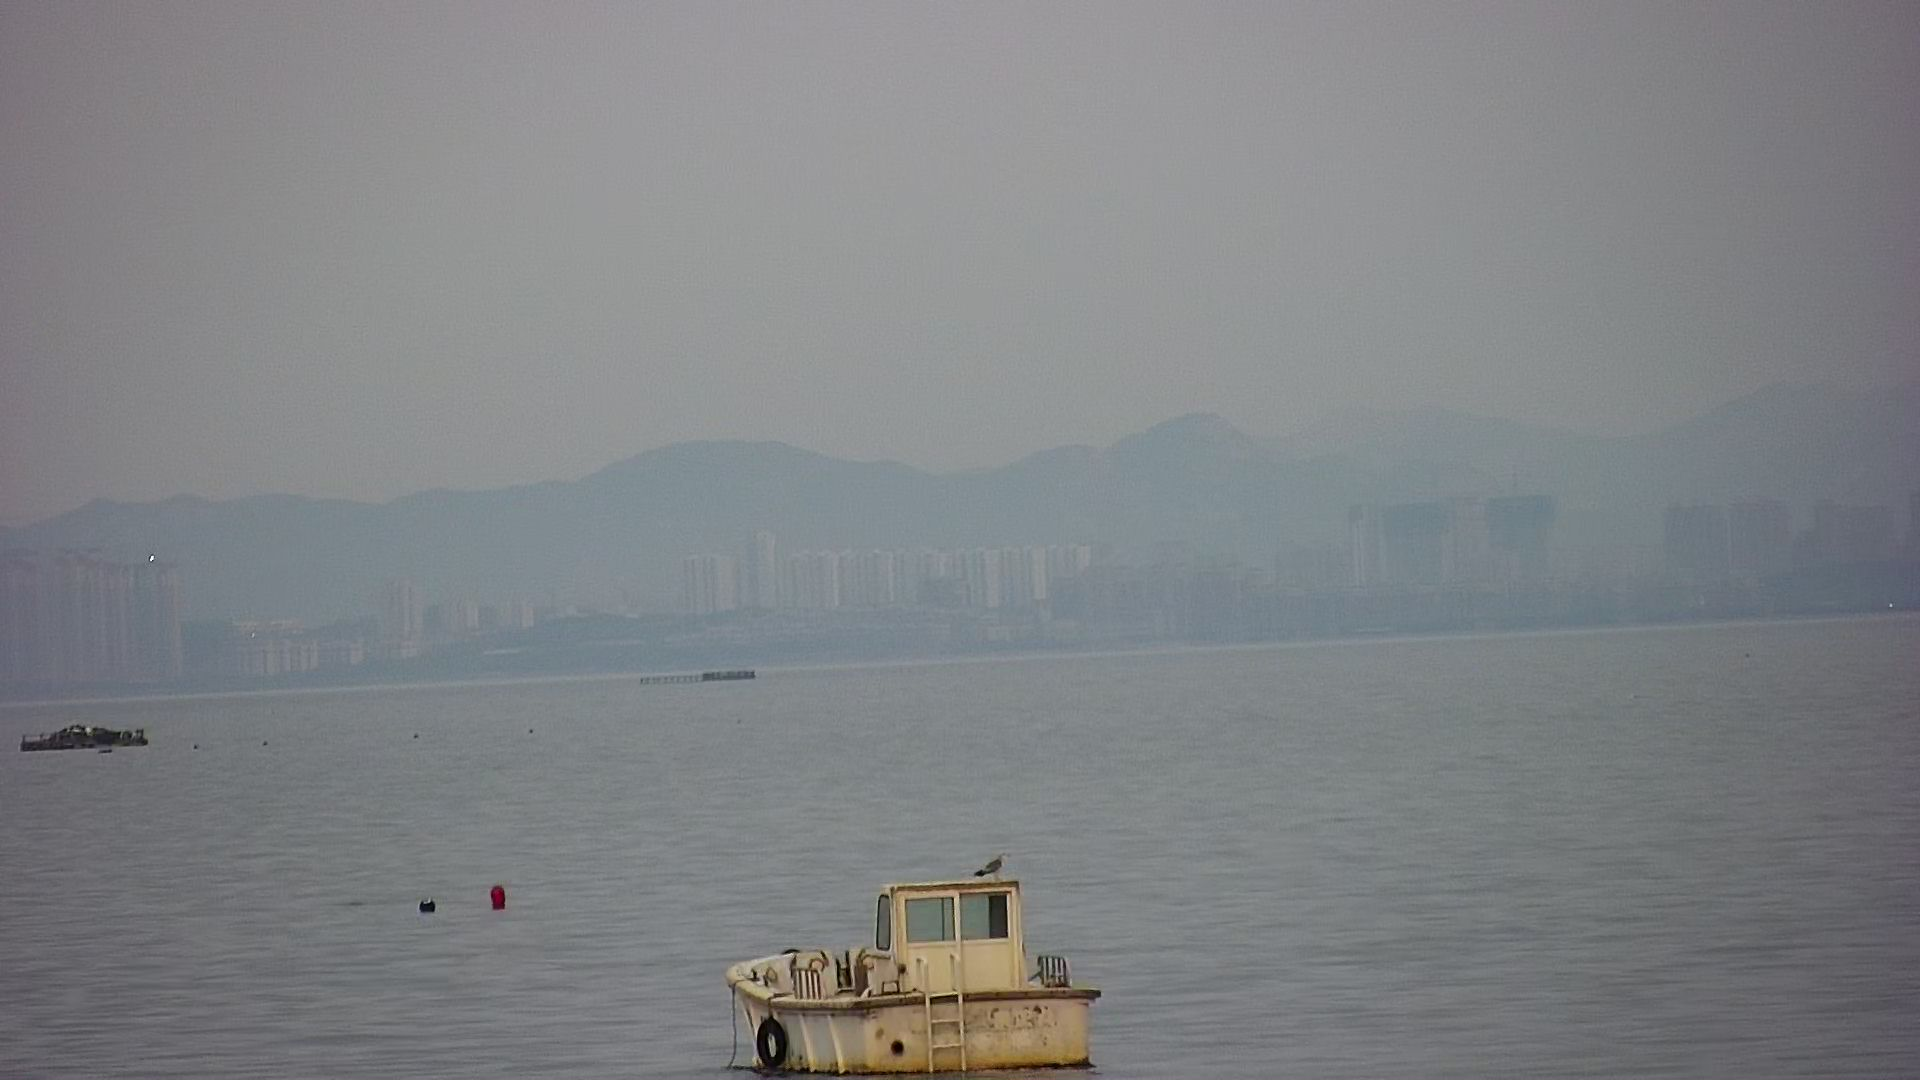boat: (708, 851, 1149, 1080)
platform: (20, 717, 162, 765)
rubbish: (477, 872, 527, 923), (415, 899, 442, 916)
